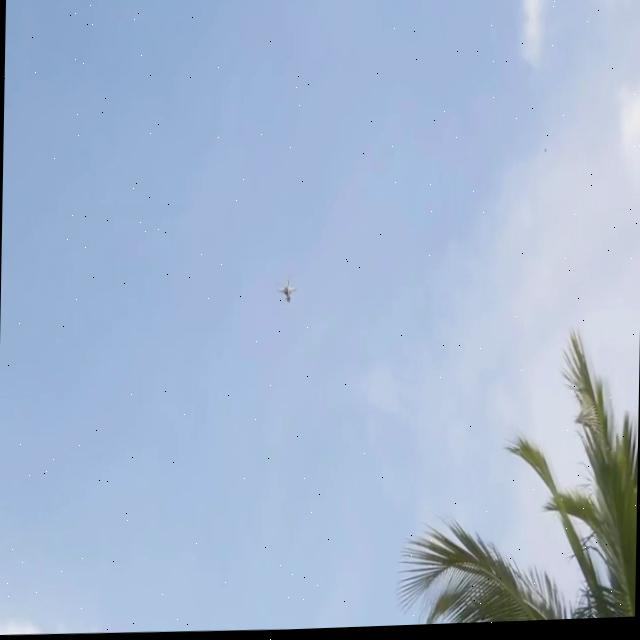drone: (0, 463, 637, 640)
